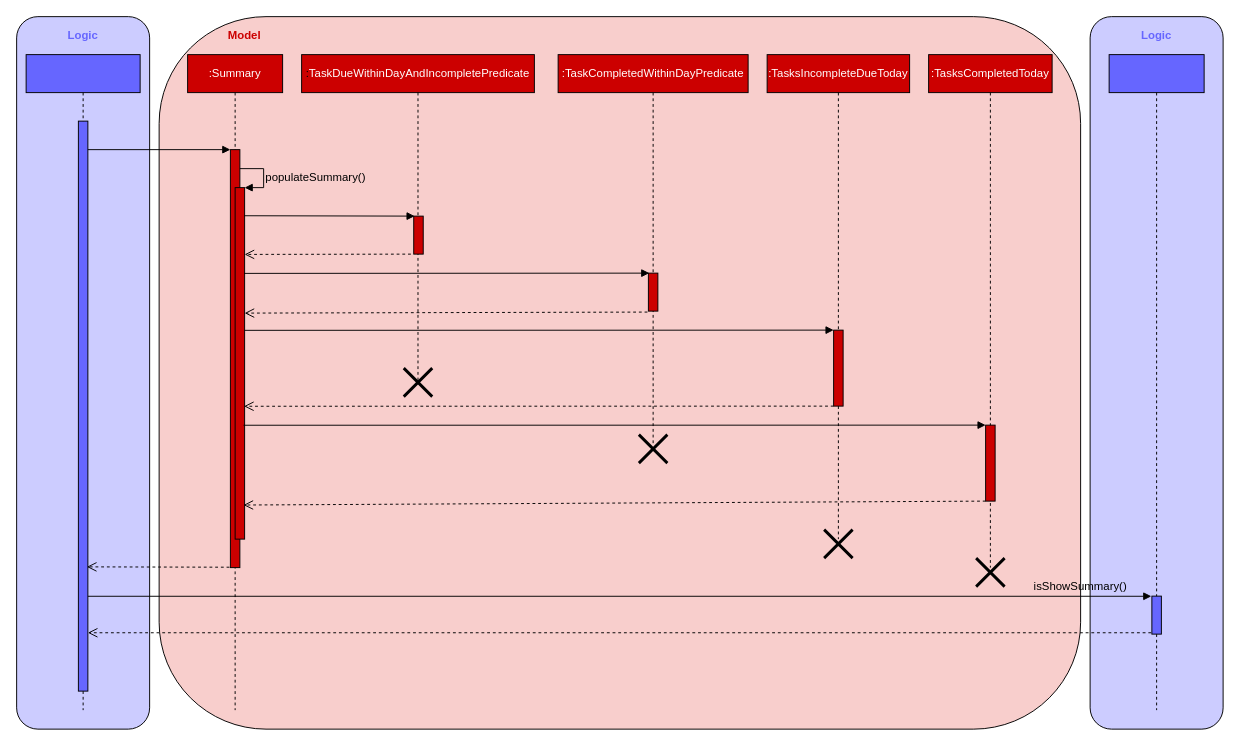
Some shapes in this 1240 by 746 pixel diagram are drawn without their labels. Here are the shapes that lost their labels. From the top down, the box of each, then its label:
(25, 54, 140, 710): :SummaryCommand
(1108, 54, 1204, 710): :CommandResult
